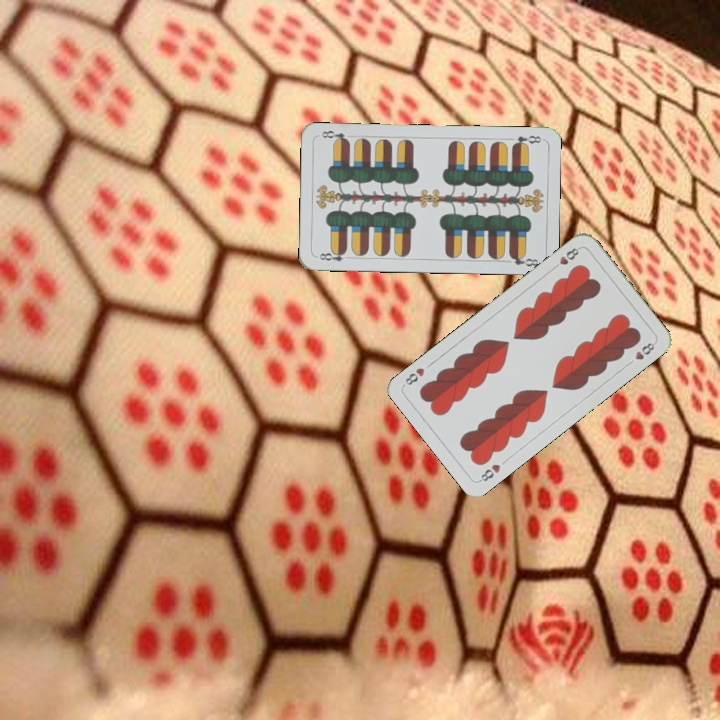E8: (313, 247, 354, 264), (508, 131, 543, 149)
H8: (548, 243, 582, 273), (475, 460, 503, 485)
